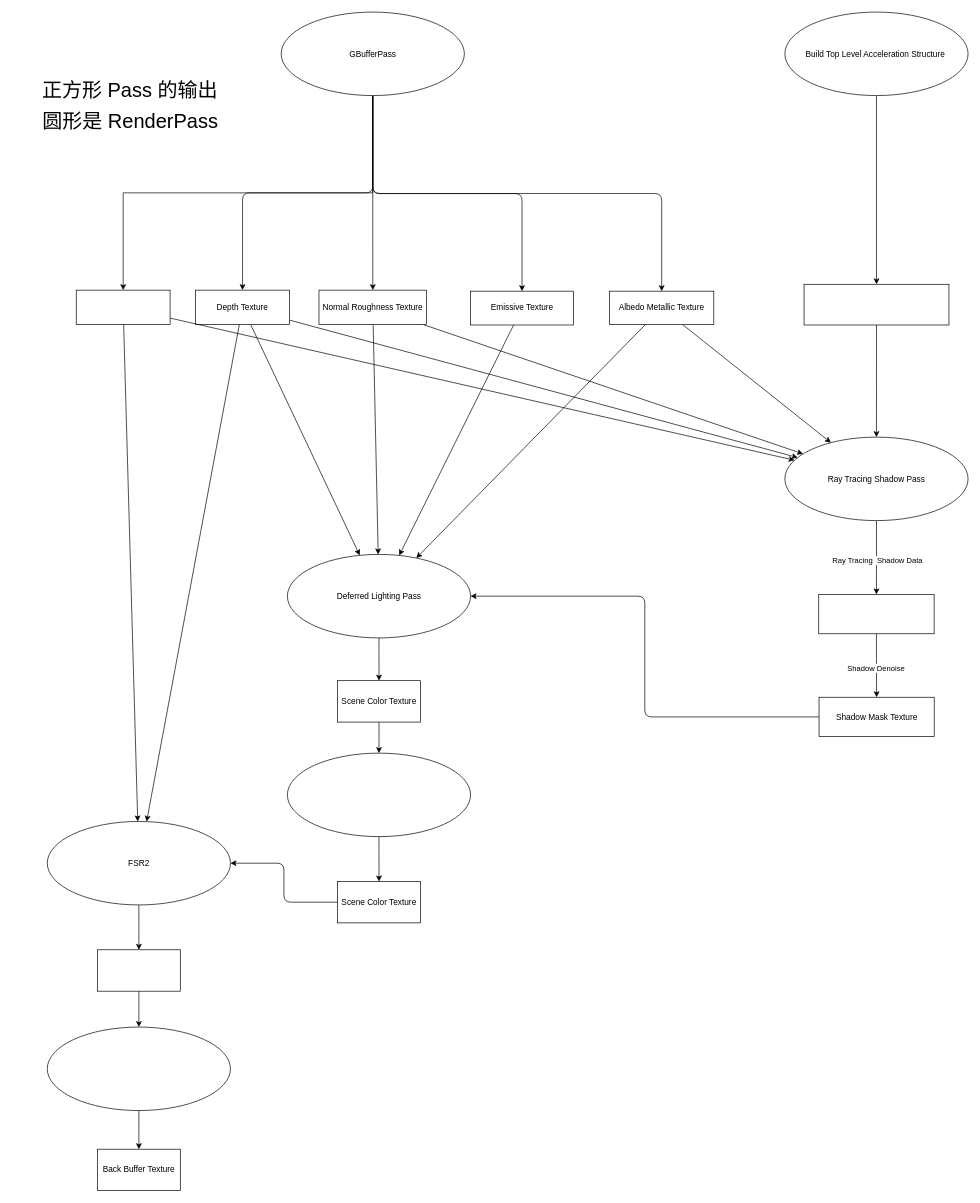
This 980x1203 diagram has some shape labels left out. Each missing label, with the centre of its shape:
"Motion Vector Texture" belongs at pixel 123 307.
"Shadow Data Texture" belongs at pixel 876 614.
"SkyBox Pass" belongs at pixel 379 794.
"Tone Mapper With Gamma Correction Pass" belongs at pixel 138 1068.
"Top Level Acceleration Structure" belongs at pixel 876 304.
"Upscale Scene Color Texture" belongs at pixel 138 970.
